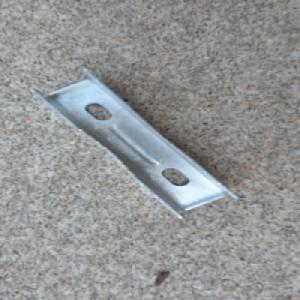ClampPart: (28, 67, 238, 219)
